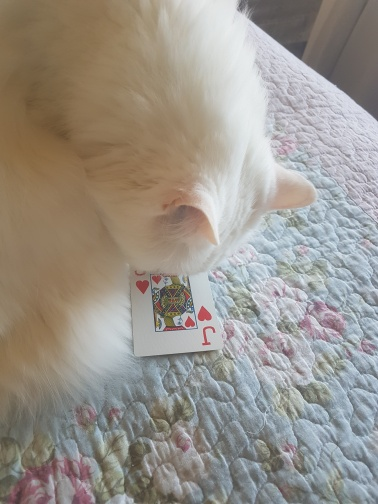jack: (128, 247, 225, 357)
